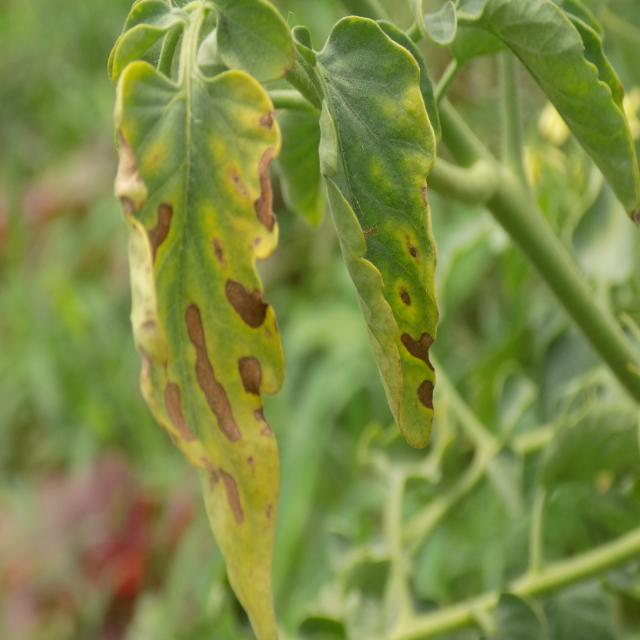tomato_early blight: (109, 51, 287, 640), (321, 9, 439, 452)
